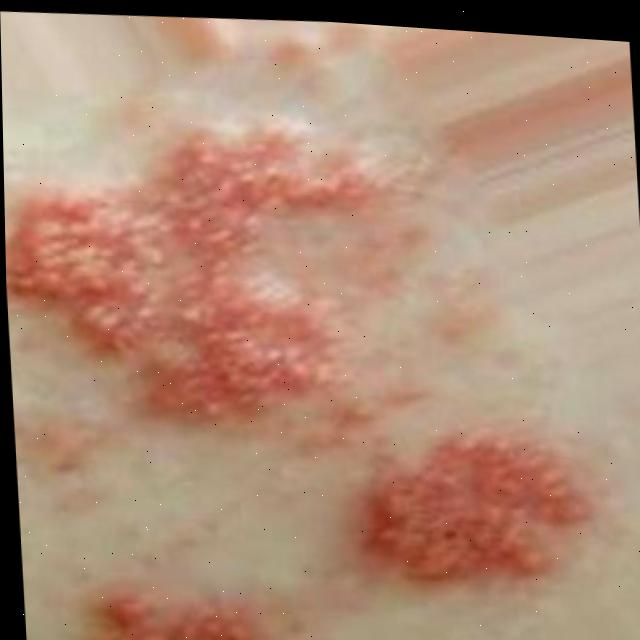Shingles: (2, 96, 395, 445), (353, 421, 596, 598), (86, 575, 284, 640)
